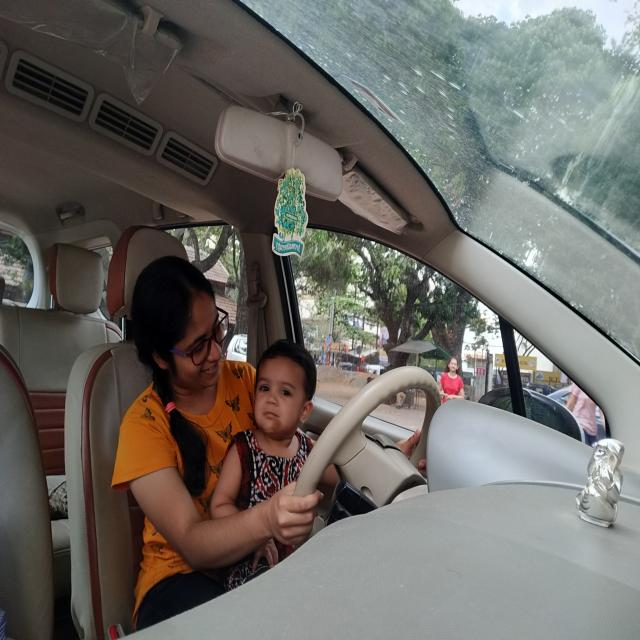child: (252, 338, 314, 438)
person: (133, 264, 234, 401)
